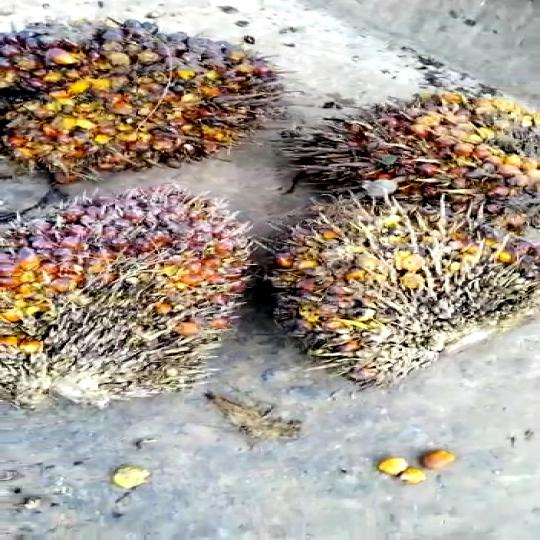masak: (0, 187, 239, 428), (245, 197, 526, 374), (0, 7, 272, 176), (279, 78, 540, 225)
